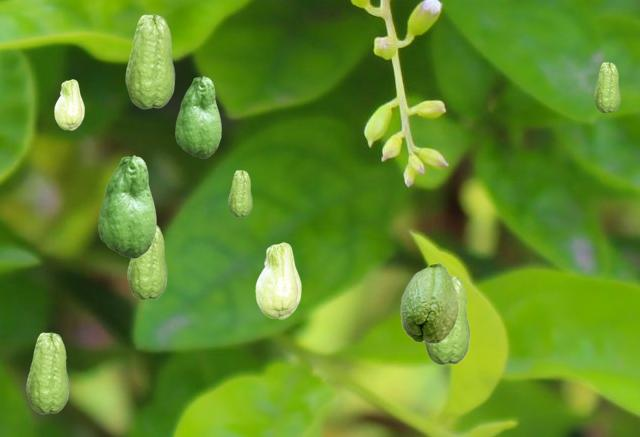sayote: (98, 155, 155, 257), (400, 262, 458, 343), (125, 14, 174, 108), (423, 275, 469, 364), (175, 76, 220, 157), (255, 242, 300, 318), (26, 332, 68, 413), (127, 224, 166, 299), (54, 79, 83, 129), (594, 62, 619, 112), (228, 170, 251, 216)
